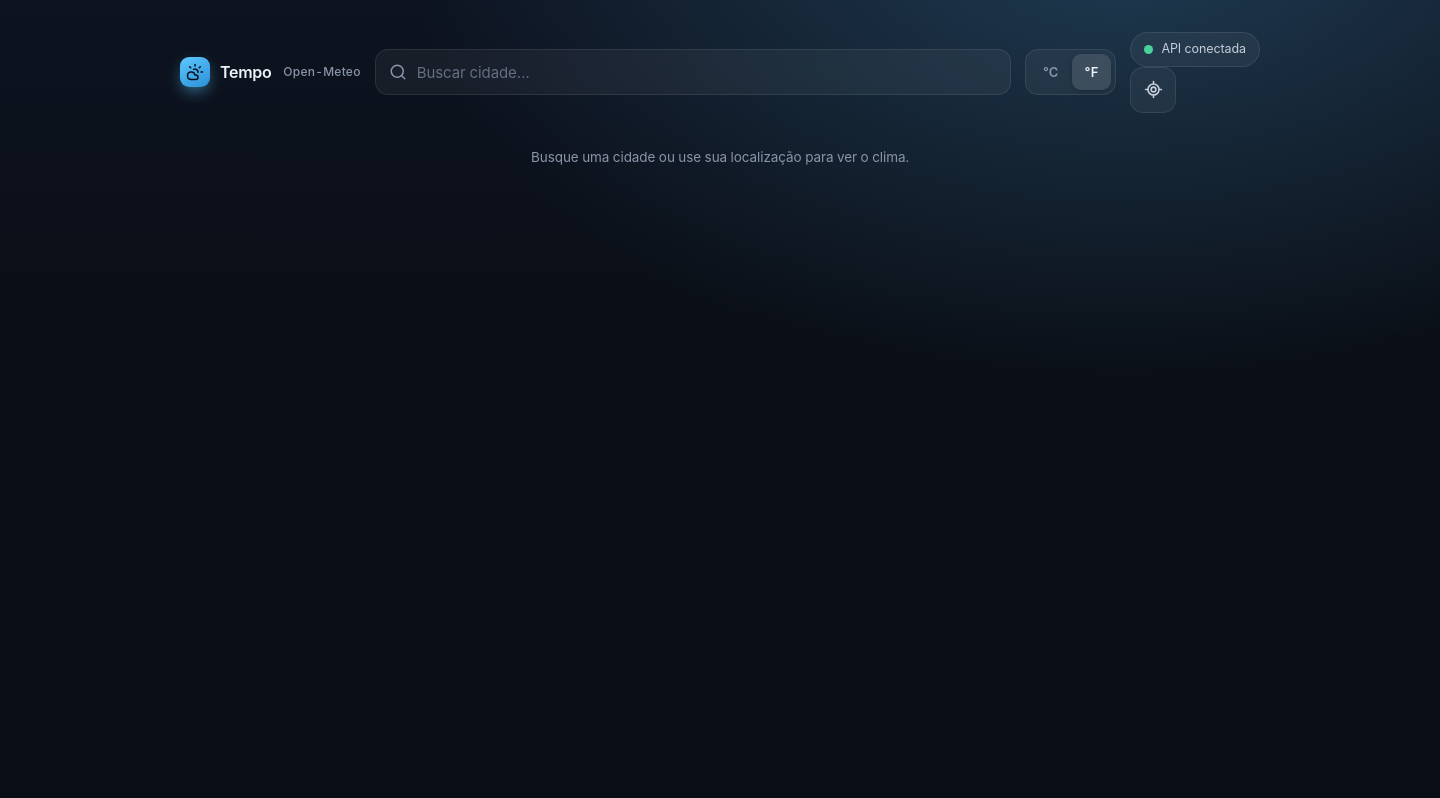
Test: WeatherDashboardPage units toggle › loads all in-scope readings in imperial when the persisted preference is °F
Type "London" into the dropdown at (707, 72), box [417,50,997,94]
Wait 240 ms
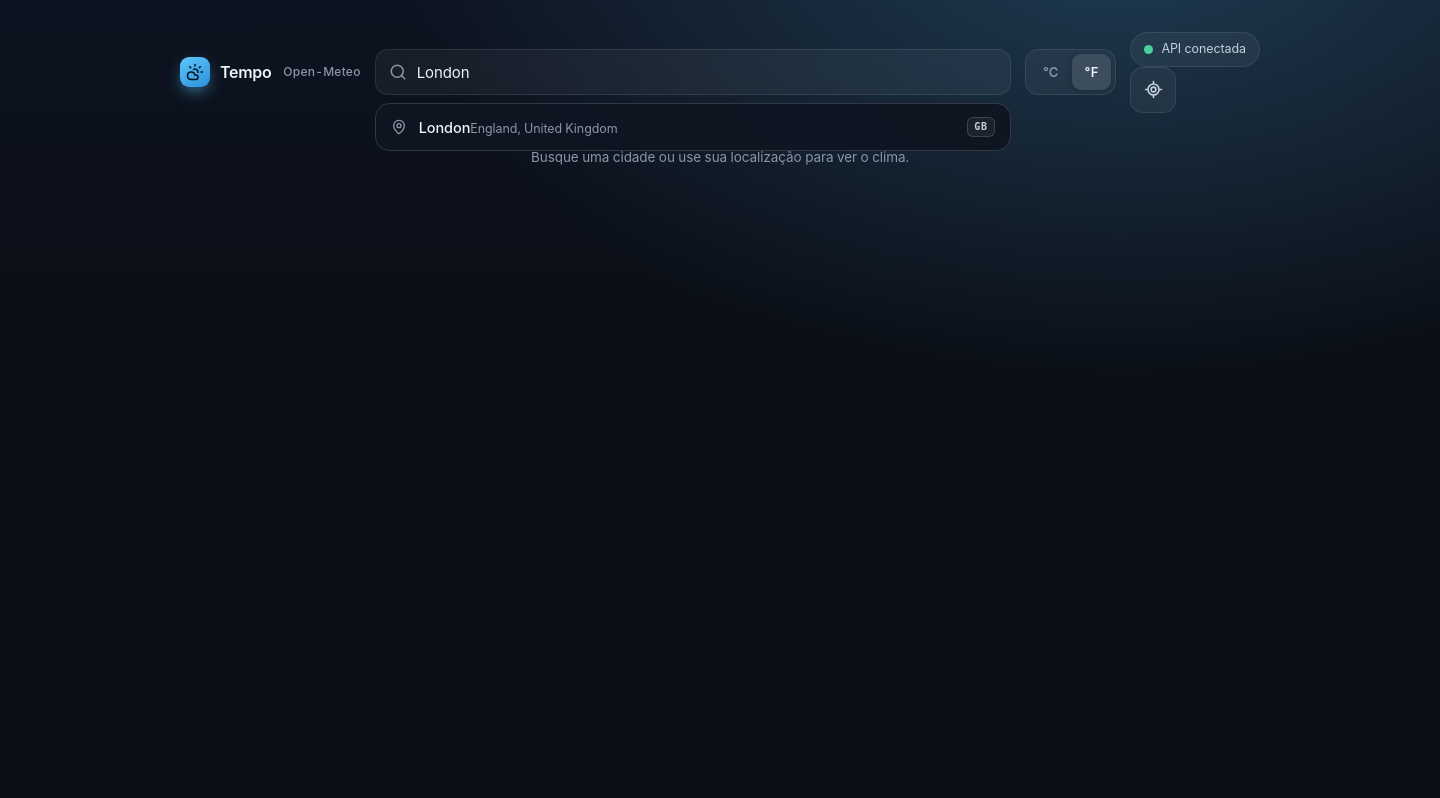
Press the mouse on the option at (444, 128), box [376,104,1010,150]
(page scrolled)
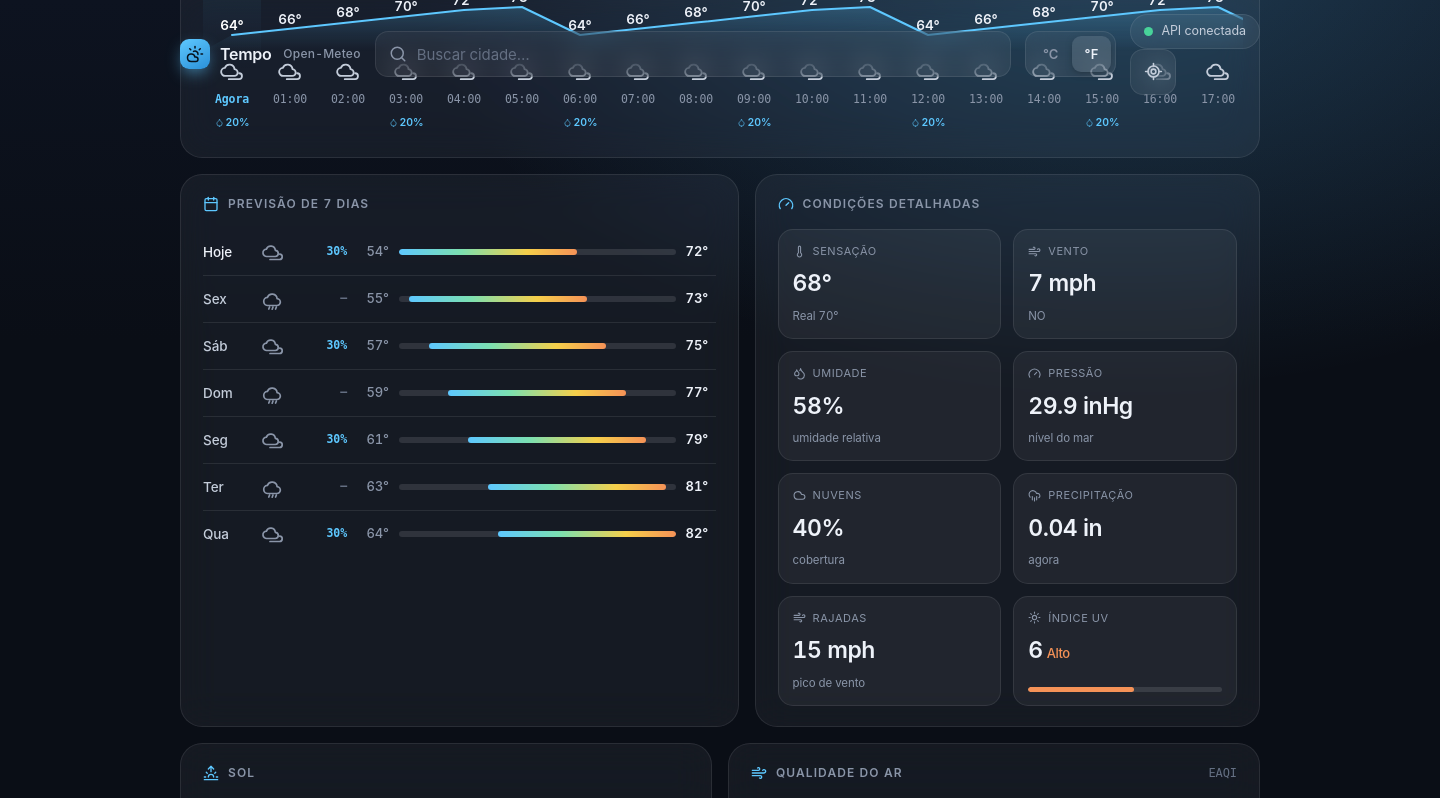
Now the text with class "wx-hg-temp" below "Próximas 24 horas" reads "64°", box [220,17,244,33]
Now the text "54°" is shown, box [366,243,389,259]
Now the text "29.9 inHg" is shown, box [1028,392,1133,420]
